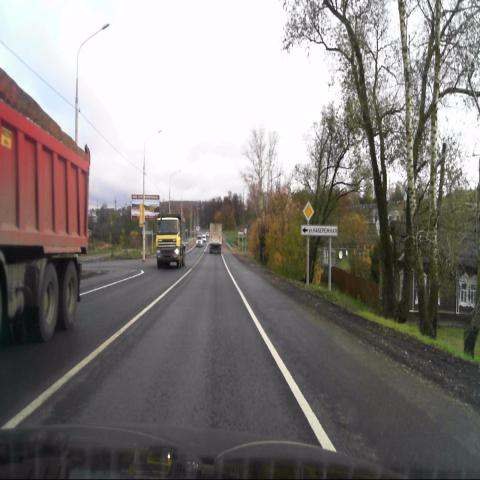2_1: (302, 202, 314, 222)
